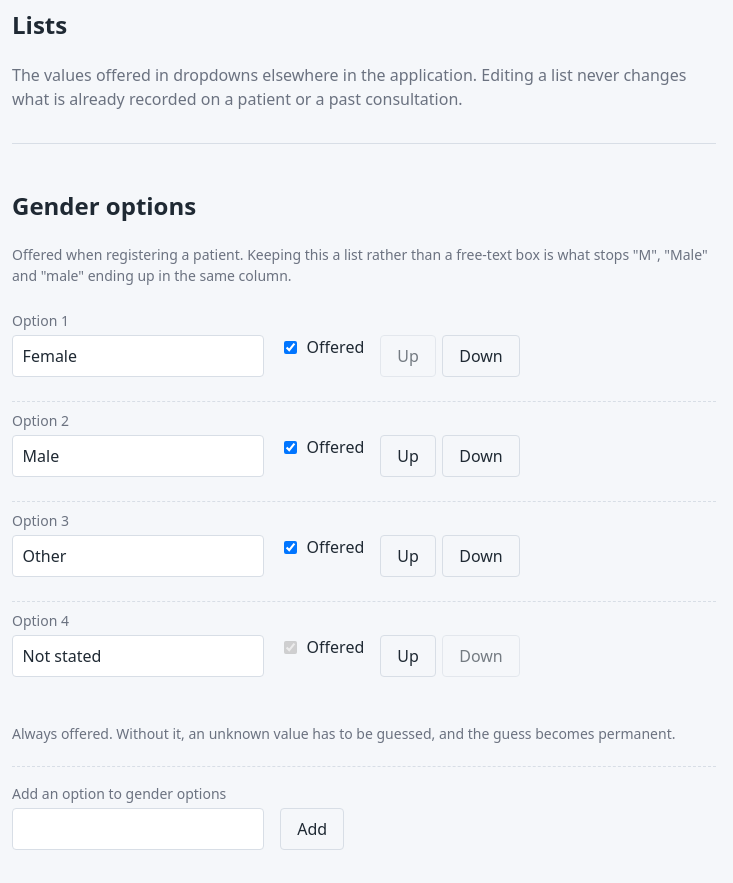
ClinicSettingsPage › refuses to add an empty option
This screenshot has width=733, height=883.
Click the button "Add" at (312, 829), box [280,808,344,850]
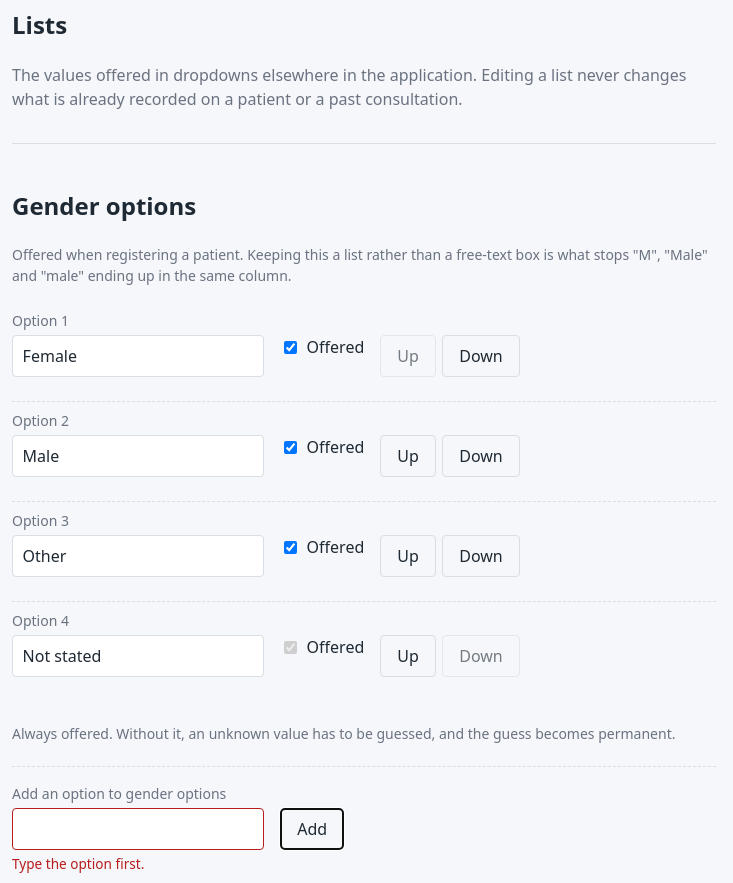
Expected: the text "Type the option first." is shown, [12,854,144,873]
